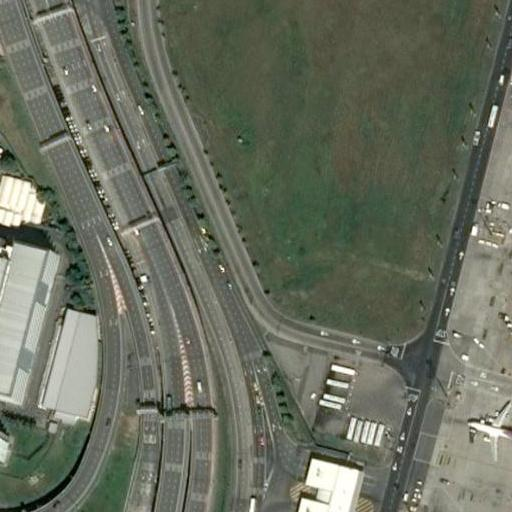Aircraft: (460, 397, 512, 461), (499, 306, 512, 366), (504, 482, 512, 512)
